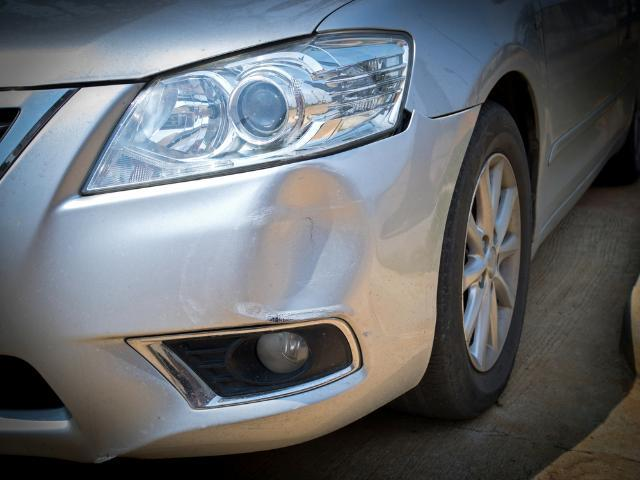dent: (233, 166, 373, 322)
